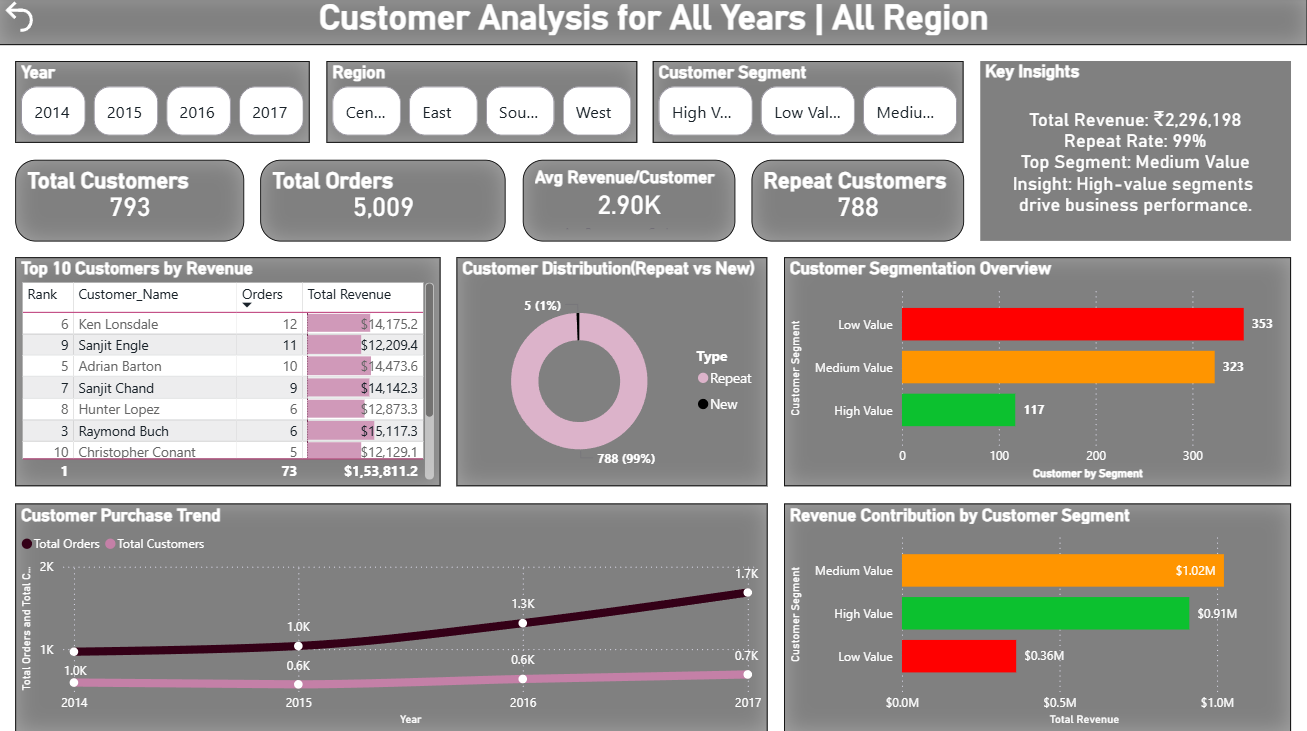

Layout of this report page (visuals, bound fields, positions):
{"tool":"powerbi","page":{"name":"Customer Insights","canvas":[1280,720],"ordinal":2},"visuals":[{"type":"textbox","box":[0,0,1280,48],"z":0},{"type":"card","title":"Total Customers","fields":{"Values":["Measures (2).Total Customers"]},"box":[16,160,224,80],"z":1000},{"type":"card","title":"Total Orders","fields":{"Values":["Measures (2).Total Orders"]},"box":[256,160,240,80],"z":2000},{"type":"card","title":"Avg Revenue/Customer","fields":{"Values":["Measures (2).Avg Revenue per Customer"]},"box":[512,160,208,80],"z":3000},{"type":"card","title":"Repeat Customers","fields":{"Values":["Measures (2).Repeat Customers"]},"box":[736,160,208,80],"z":4000},{"type":"tableEx","title":"Top 10 Customers by Revenue","fields":{"Values":["Measures (2).Customer Rank","Dim_Customers.Customer_Name","Measures (2).Total Orders","Measures (2).Total Revenue"]},"box":[16,256,416,224],"z":5000},{"type":"donutChart","title":"Customer Distribution(Repeat vs New)","fields":{"Category":["Customer Type.Type"],"Y":["Customer Type.Customer Count by Type"]},"box":[448,256,304,224],"z":6000},{"type":"barChart","title":"Customer  Segmentation Overview","fields":{"Category":["Dim_Customers.Customer Segment"],"Y":["Measures (2).Customer by Segment"]},"box":[768,256,496,224],"z":7000},{"type":"barChart","title":" Revenue Contribution by Customer Segment","fields":{"Category":["Dim_Customers.Customer Segment"],"Y":["Measures (2).Total Revenue"]},"box":[768,496,496,224],"z":8000},{"type":"lineChart","title":"Customer Purchase Trend","fields":{"Category":["Dim_Date.full_date.Variation.Date Hierarchy.Year","Dim_Date.full_date.Variation.Date Hierarchy.Quarter","Dim_Date.full_date.Variation.Date Hierarchy.Month","Dim_Date.full_date.Variation.Date Hierarchy.Day"],"Y":["Measures (2).Total Orders","Measures (2).Total Customers"]},"box":[16,496,736,224],"z":9000},{"type":"advancedSlicerVisual","fields":{"Values":["Dim_Date.full_date.Variation.Date Hierarchy.Year"]},"box":[16,64,288,80],"z":10000},{"type":"advancedSlicerVisual","fields":{"Values":["Dim_Region.Region"]},"box":[320,64,304,80],"z":11000},{"type":"advancedSlicerVisual","fields":{"Values":["Dim_Customers.Customer Segment"]},"box":[640,64,304,80],"z":12000},{"type":"actionButton","box":[0,0,100,40],"z":13000},{"type":"card","title":"Key Insights","fields":{"Values":["Measures (2).Dynamic Insights"]},"box":[960,64,304,176],"z":14000}]}

Visuals, with their boxes in screenshot pixels (x1, y1, x2, y2), scaled from the page's 1280x720 canvas onto the 1307x731 screenshot:
textbox: {"x1": 0, "y1": 0, "x2": 1306, "y2": 49}
"Total Customers" card: {"x1": 16, "y1": 162, "x2": 245, "y2": 244}
"Total Orders" card: {"x1": 261, "y1": 162, "x2": 506, "y2": 244}
"Avg Revenue/Customer" card: {"x1": 523, "y1": 162, "x2": 735, "y2": 244}
"Repeat Customers" card: {"x1": 752, "y1": 162, "x2": 964, "y2": 244}
"Top 10 Customers by Revenue" tableEx: {"x1": 16, "y1": 260, "x2": 441, "y2": 487}
"Customer Distribution(Repeat vs New)" donutChart: {"x1": 457, "y1": 260, "x2": 768, "y2": 487}
"Customer  Segmentation Overview" barChart: {"x1": 784, "y1": 260, "x2": 1291, "y2": 487}
" Revenue Contribution by Customer Segment" barChart: {"x1": 784, "y1": 504, "x2": 1291, "y2": 730}
"Customer Purchase Trend" lineChart: {"x1": 16, "y1": 504, "x2": 768, "y2": 730}
advancedSlicerVisual - Dim_Date.full_date.Variation.Date Hierarchy.Year: {"x1": 16, "y1": 65, "x2": 310, "y2": 146}
advancedSlicerVisual - Dim_Region.Region: {"x1": 327, "y1": 65, "x2": 637, "y2": 146}
advancedSlicerVisual - Dim_Customers.Customer Segment: {"x1": 654, "y1": 65, "x2": 964, "y2": 146}
actionButton: {"x1": 0, "y1": 0, "x2": 102, "y2": 41}
"Key Insights" card: {"x1": 980, "y1": 65, "x2": 1291, "y2": 244}
